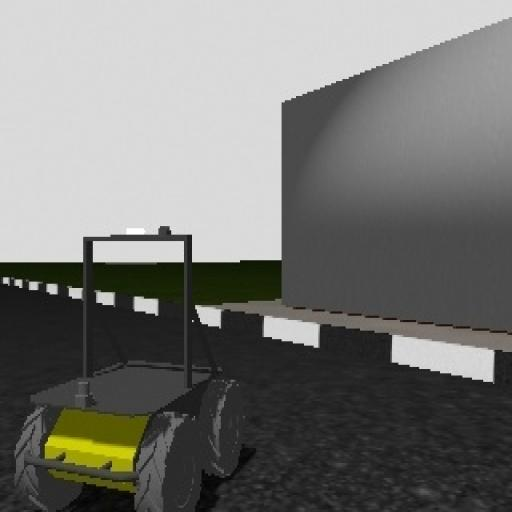huskya200: (5, 205, 265, 512)
